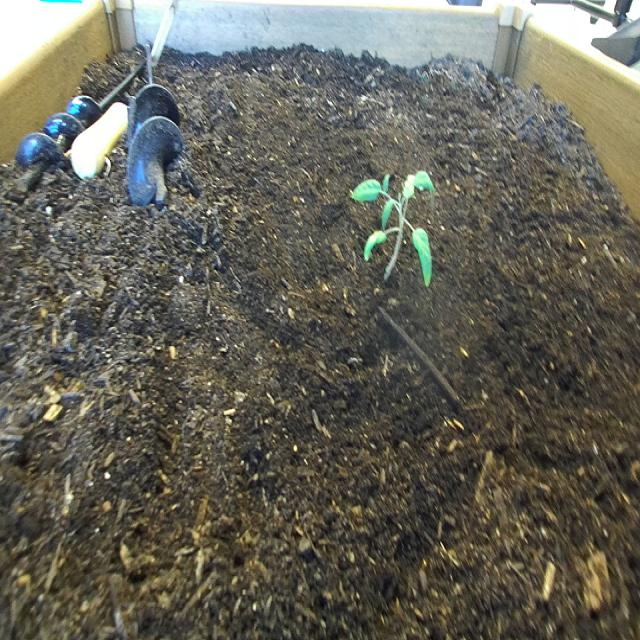Healthy: (345, 153, 448, 305)
